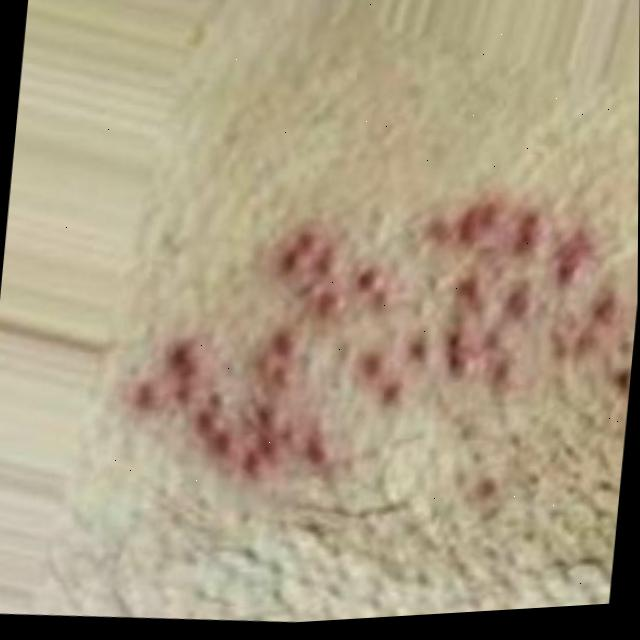Shingles: (113, 165, 638, 535)
